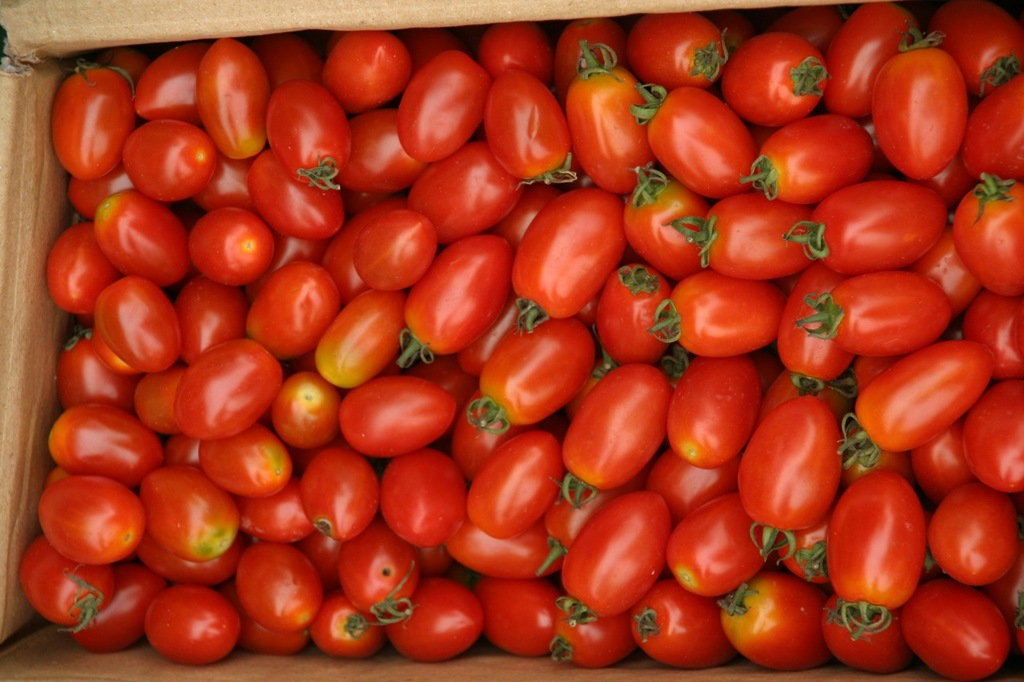Tomato: (16, 0, 1023, 682)
